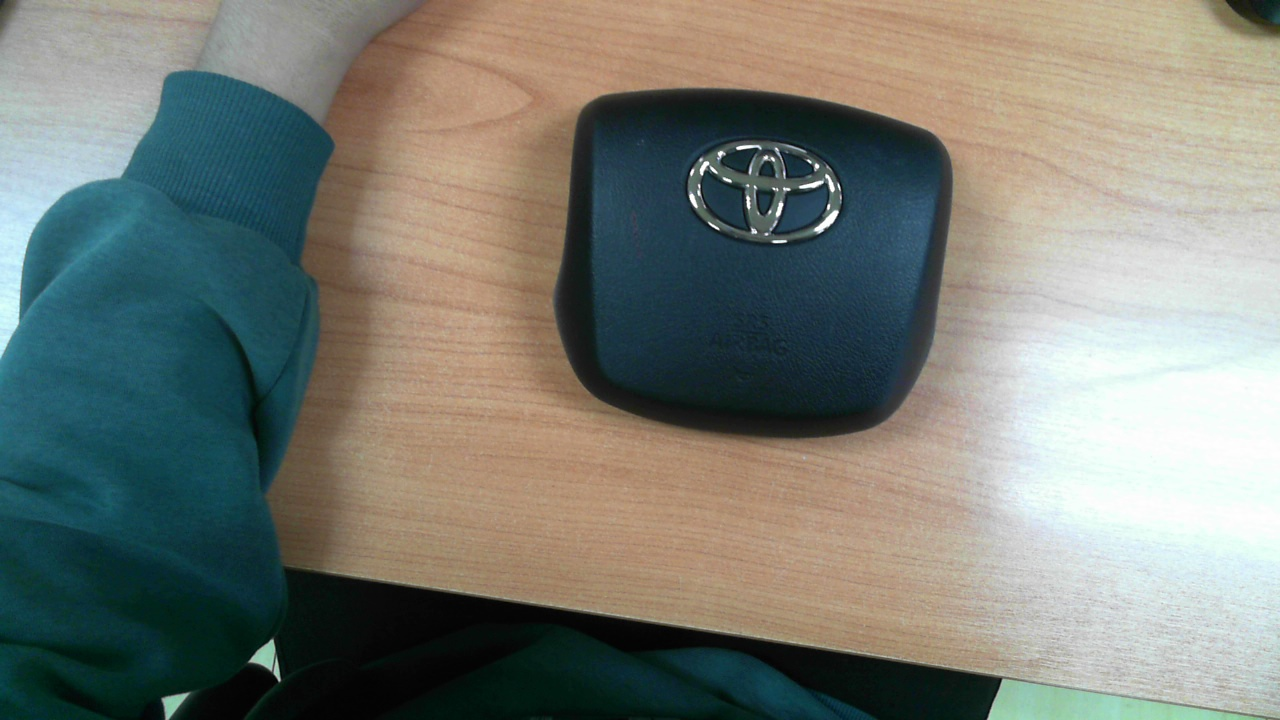Airbag: (554, 87, 954, 440)
Toyota: (687, 140, 842, 244)
